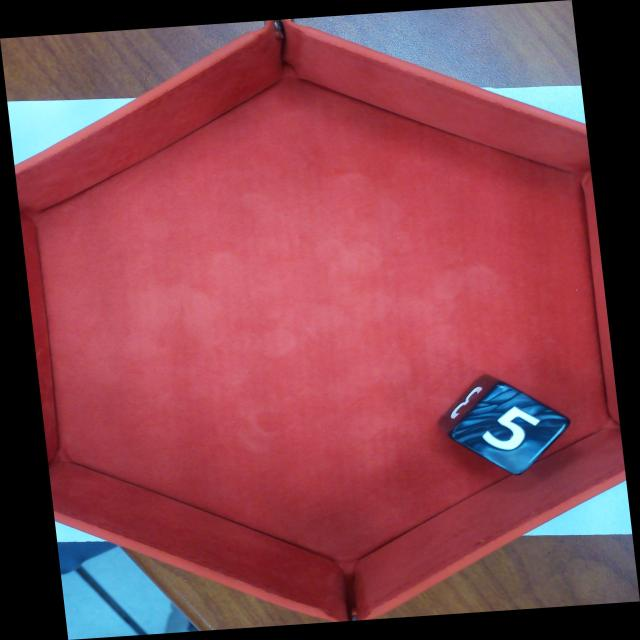dice: (446, 377, 573, 482)
